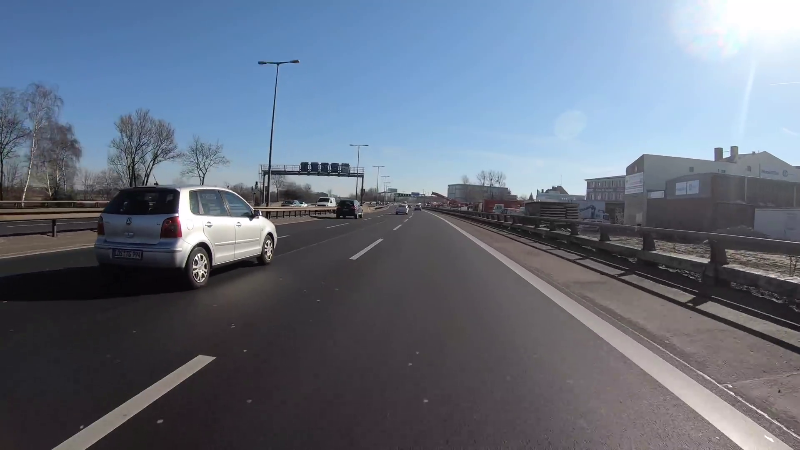Plate: (109, 247, 144, 260)
